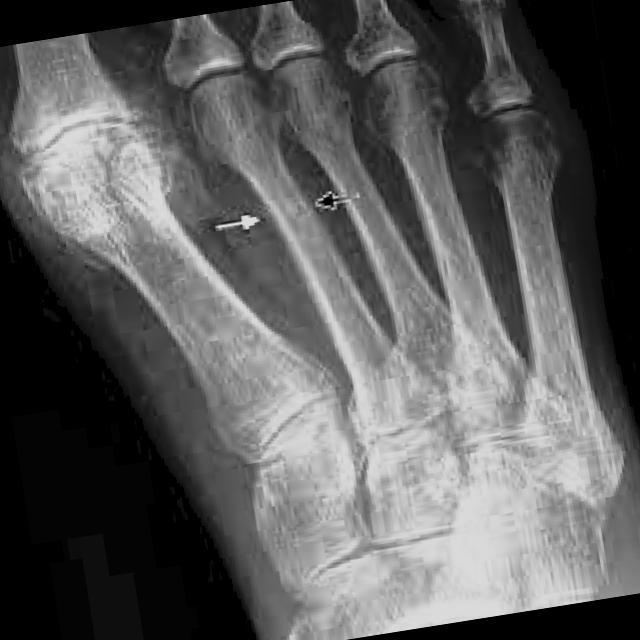Impact Fracture: (273, 184, 325, 227)
